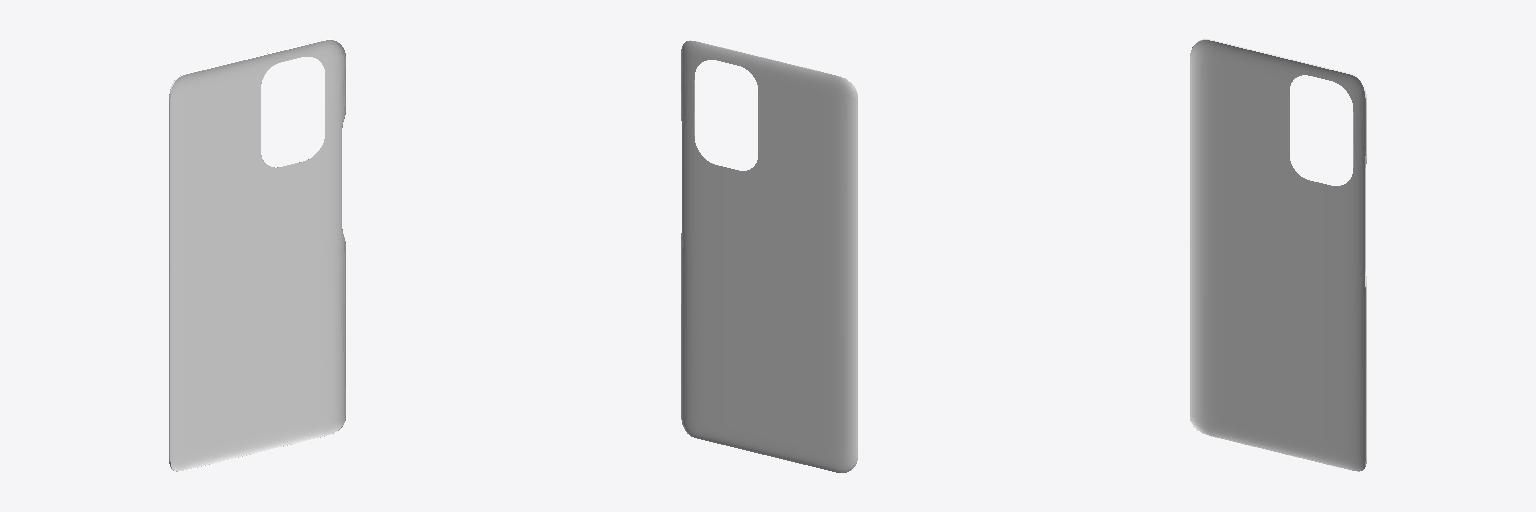
The model's file is hougai.obj.
3 renders of one model, left to right at view 1: azimuth 30°, elevation 25°; view 2: azimuth 150°, elevation 25°; view 3: azimuth 330°, elevation 25°, orthographic.
Visible parts, largest first — view 1: Material_#451_Mesh_1; view 2: Material_#451_Mesh_1; view 3: Material_#451_Mesh_1.
Part boxes in pixels (x1,y1,x2,y2): Material_#451_Mesh_1: (169, 39, 345, 471); Material_#451_Mesh_1: (681, 40, 857, 472); Material_#451_Mesh_1: (1190, 39, 1366, 471).
Size of the model in its own units: 2.12 by 4.52 by 0.0954.